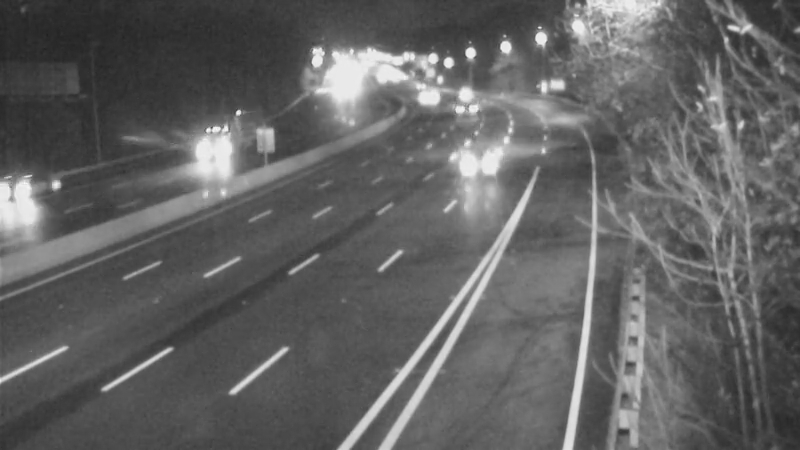vehicle: (447, 116, 527, 196), (169, 110, 249, 190), (1, 158, 72, 238), (397, 68, 447, 118), (438, 65, 488, 115)
